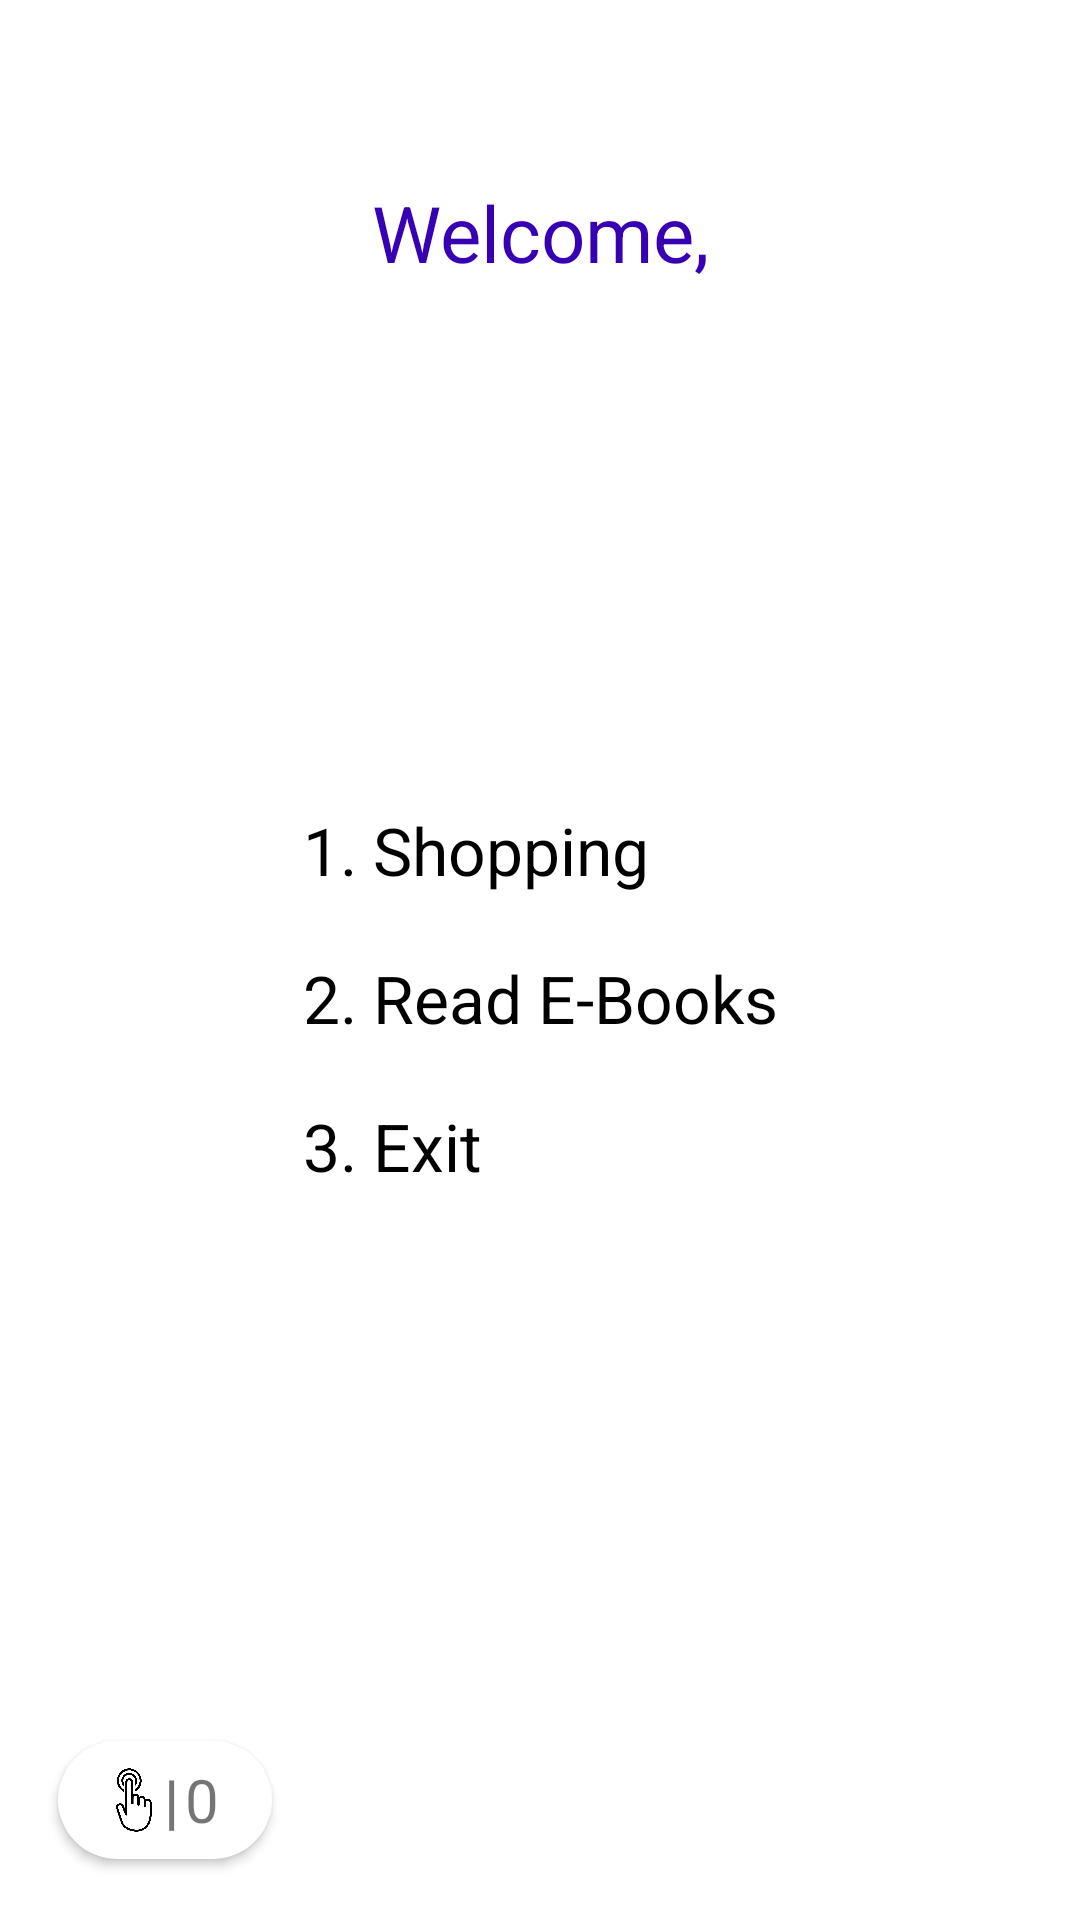

Icons on this 1080 × 1920 Android screen, each with the point to tap as (x,y):
Number of Touch: (134,1800)
